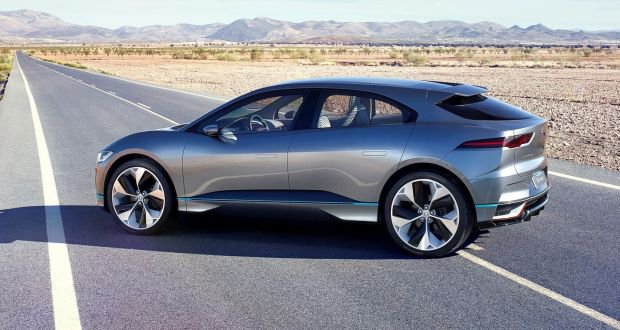car: (95, 75, 551, 262)
